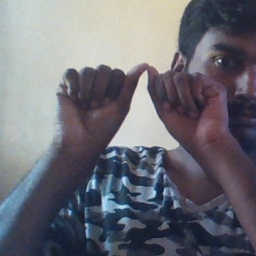A: (74, 54, 212, 145)
